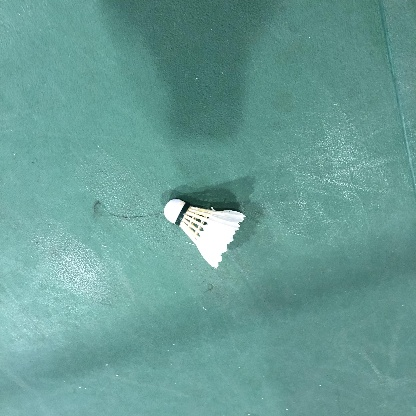ball_single: (164, 199, 245, 269)
